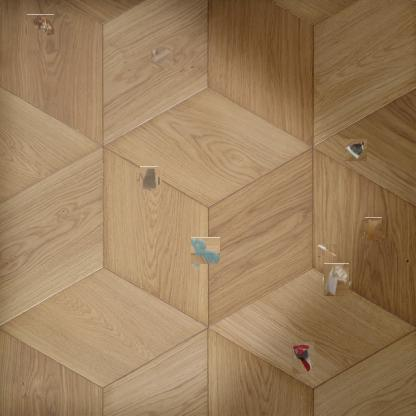dirty: (322, 265, 351, 295), (292, 342, 314, 374), (26, 14, 54, 35), (151, 46, 173, 70), (345, 139, 367, 161), (139, 168, 160, 190), (316, 244, 336, 256)
liquid: (191, 236, 220, 266), (363, 219, 384, 239)
